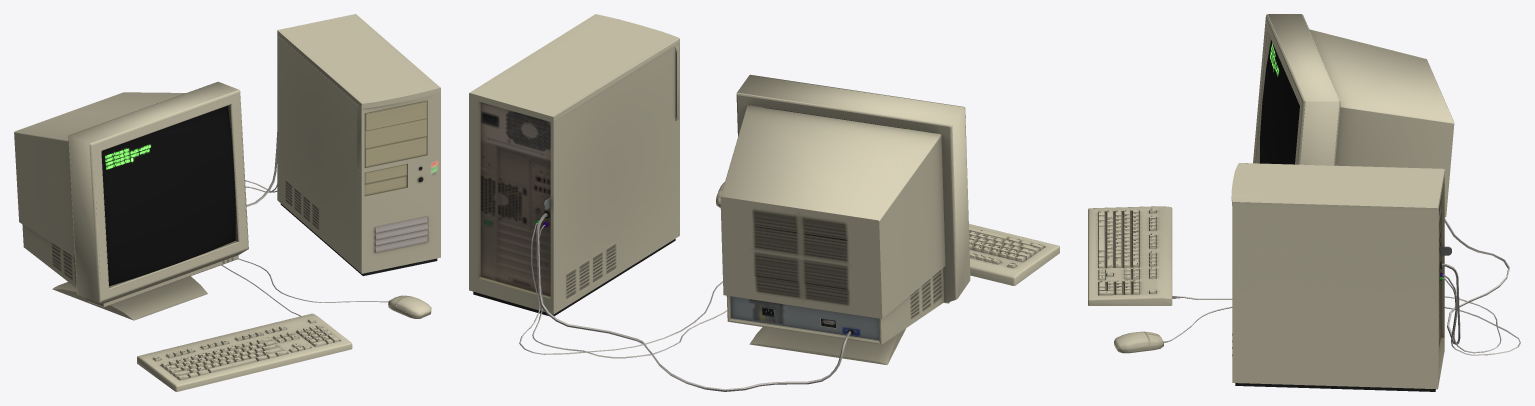
File: mid.glb
3 renders of one model, left to right at view 1: azimuth 30°, elevation 25°; view 2: azimuth 150°, elevation 25°; view 3: azimuth 270°, elevation 25°, orthographic. The views are drawn at different scales.
Parts seen in each view (by area): view 1: retro_computer_setup; view 2: retro_computer_setup; view 3: retro_computer_setup.
Part boxes in pixels (x1,y1,x2,y2): retro_computer_setup: [14, 14, 440, 391]; retro_computer_setup: [469, 14, 1059, 391]; retro_computer_setup: [1088, 14, 1520, 391].
Size of the model in its own units: 2.42 by 1.23 by 2.42.
1 material, 1 textured.
